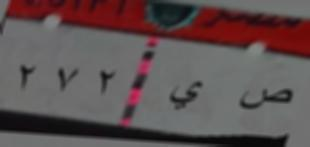2: (16, 56, 37, 99), (95, 64, 119, 101)
7: (47, 58, 79, 100)
saad: (238, 83, 295, 115)
yaa: (169, 77, 203, 113)
